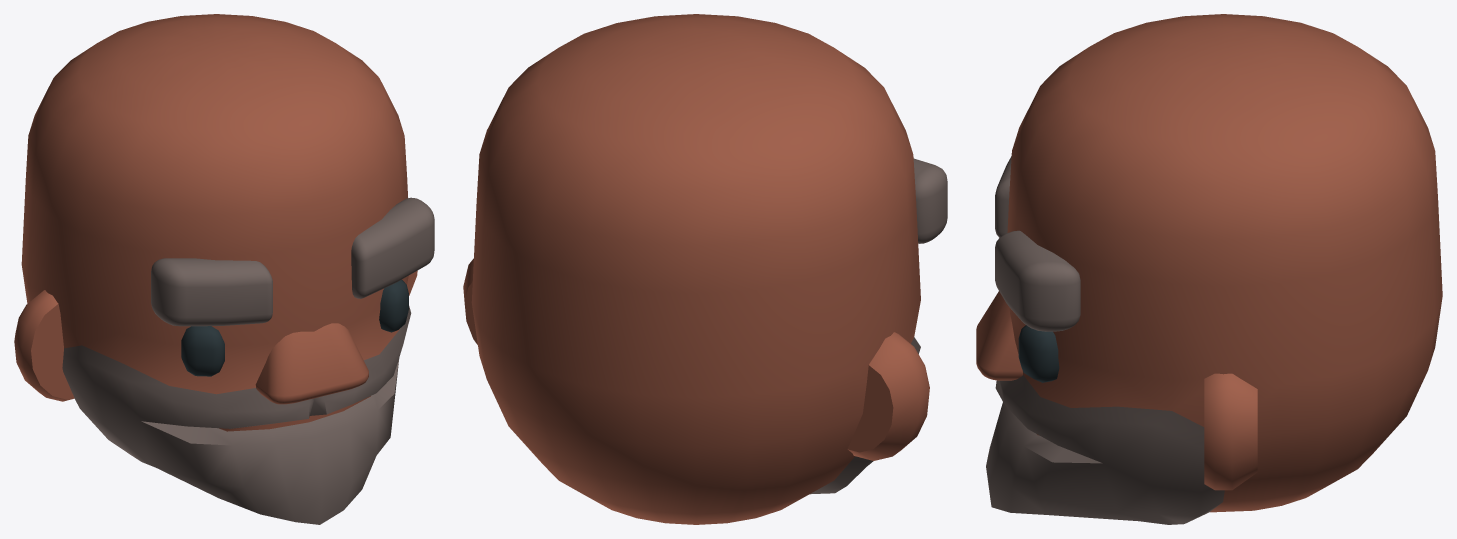
File: kaykit-barbarianheada.glb
3 views of the same model, side by side, from view 1: azimuth 30°, elevation 25°; view 2: azimuth 150°, elevation 25°; view 3: azimuth 270°, elevation 25° (orthographic). The views are drawn at different scales.
Visible parts, largest first — view 1: barbarianHeadA; view 2: barbarianHeadA; view 3: barbarianHeadA.
Boxes of the visible parts, <box> form: barbarianHeadA: <box>14,14,434,524</box>; barbarianHeadA: <box>463,14,947,524</box>; barbarianHeadA: <box>976,14,1442,524</box>.
Size of the model in its own units: 1.18 by 1.14 by 1.06.
